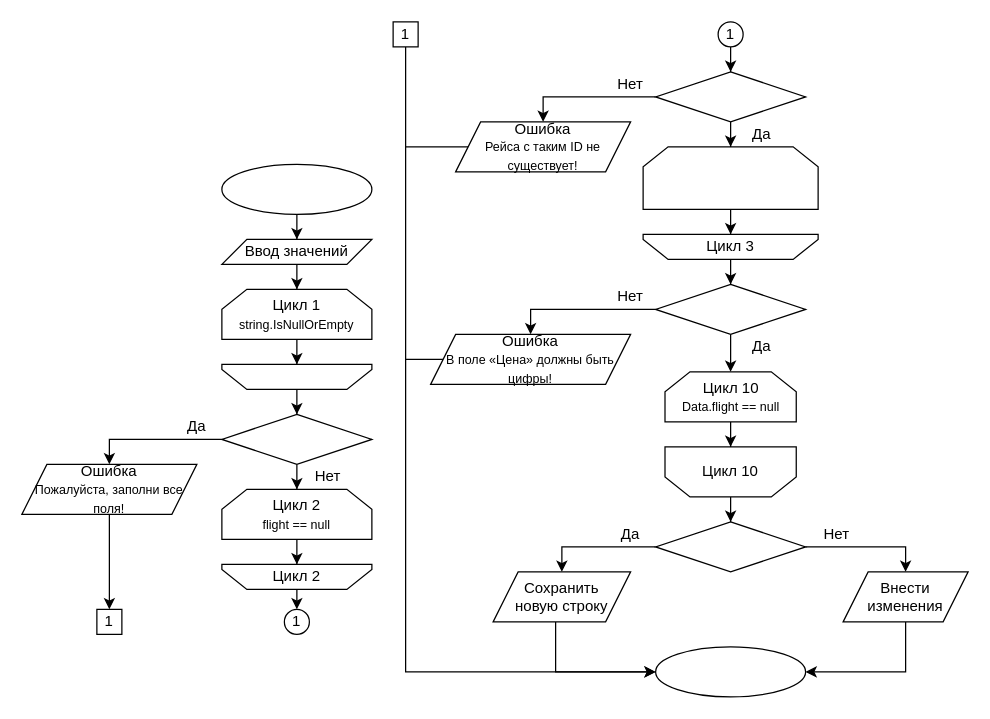
Image size: 990x719. Some labels were removed from this diagram. Each missing label, with the centre of its shape:
"ID существует" goes at (x=730, y=96).
"Есть цифры" goes at (x=730, y=308).
"Значение новое" goes at (x=730, y=546).
"Конец" goes at (x=730, y=671).
"Начало" goes at (x=296, y=188).
"Поле пустое" goes at (x=296, y=438).
"Цикл 1" goes at (x=296, y=376).
"Цикл 3 !decimal.TryParse(ticketPrice, out decimal price)" goes at (x=730, y=177).
